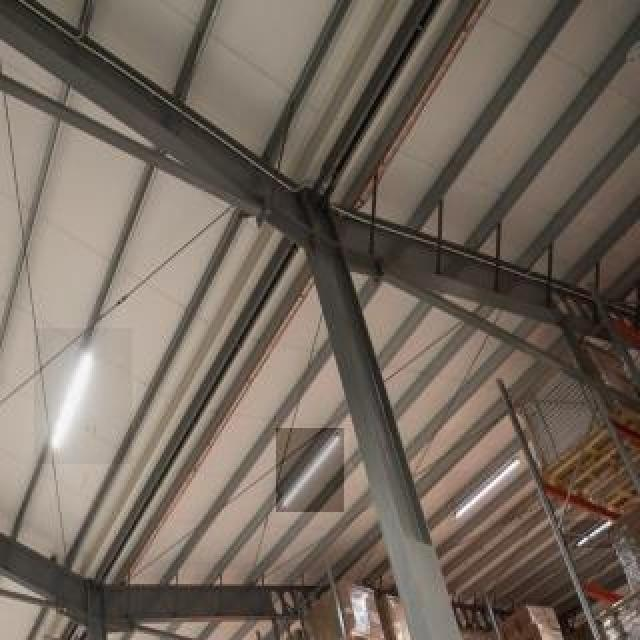fluorescent tube: (42, 334, 102, 454), (446, 447, 526, 535), (278, 435, 346, 513), (566, 511, 637, 556)
